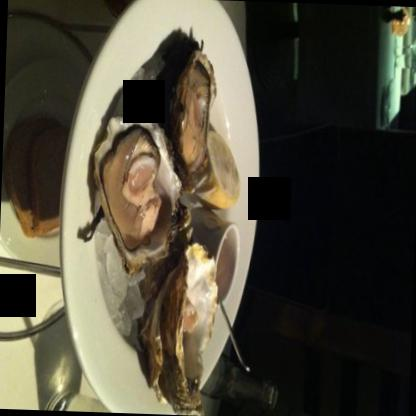oyster: (138, 235, 221, 414), (93, 114, 184, 259), (163, 51, 219, 168)
